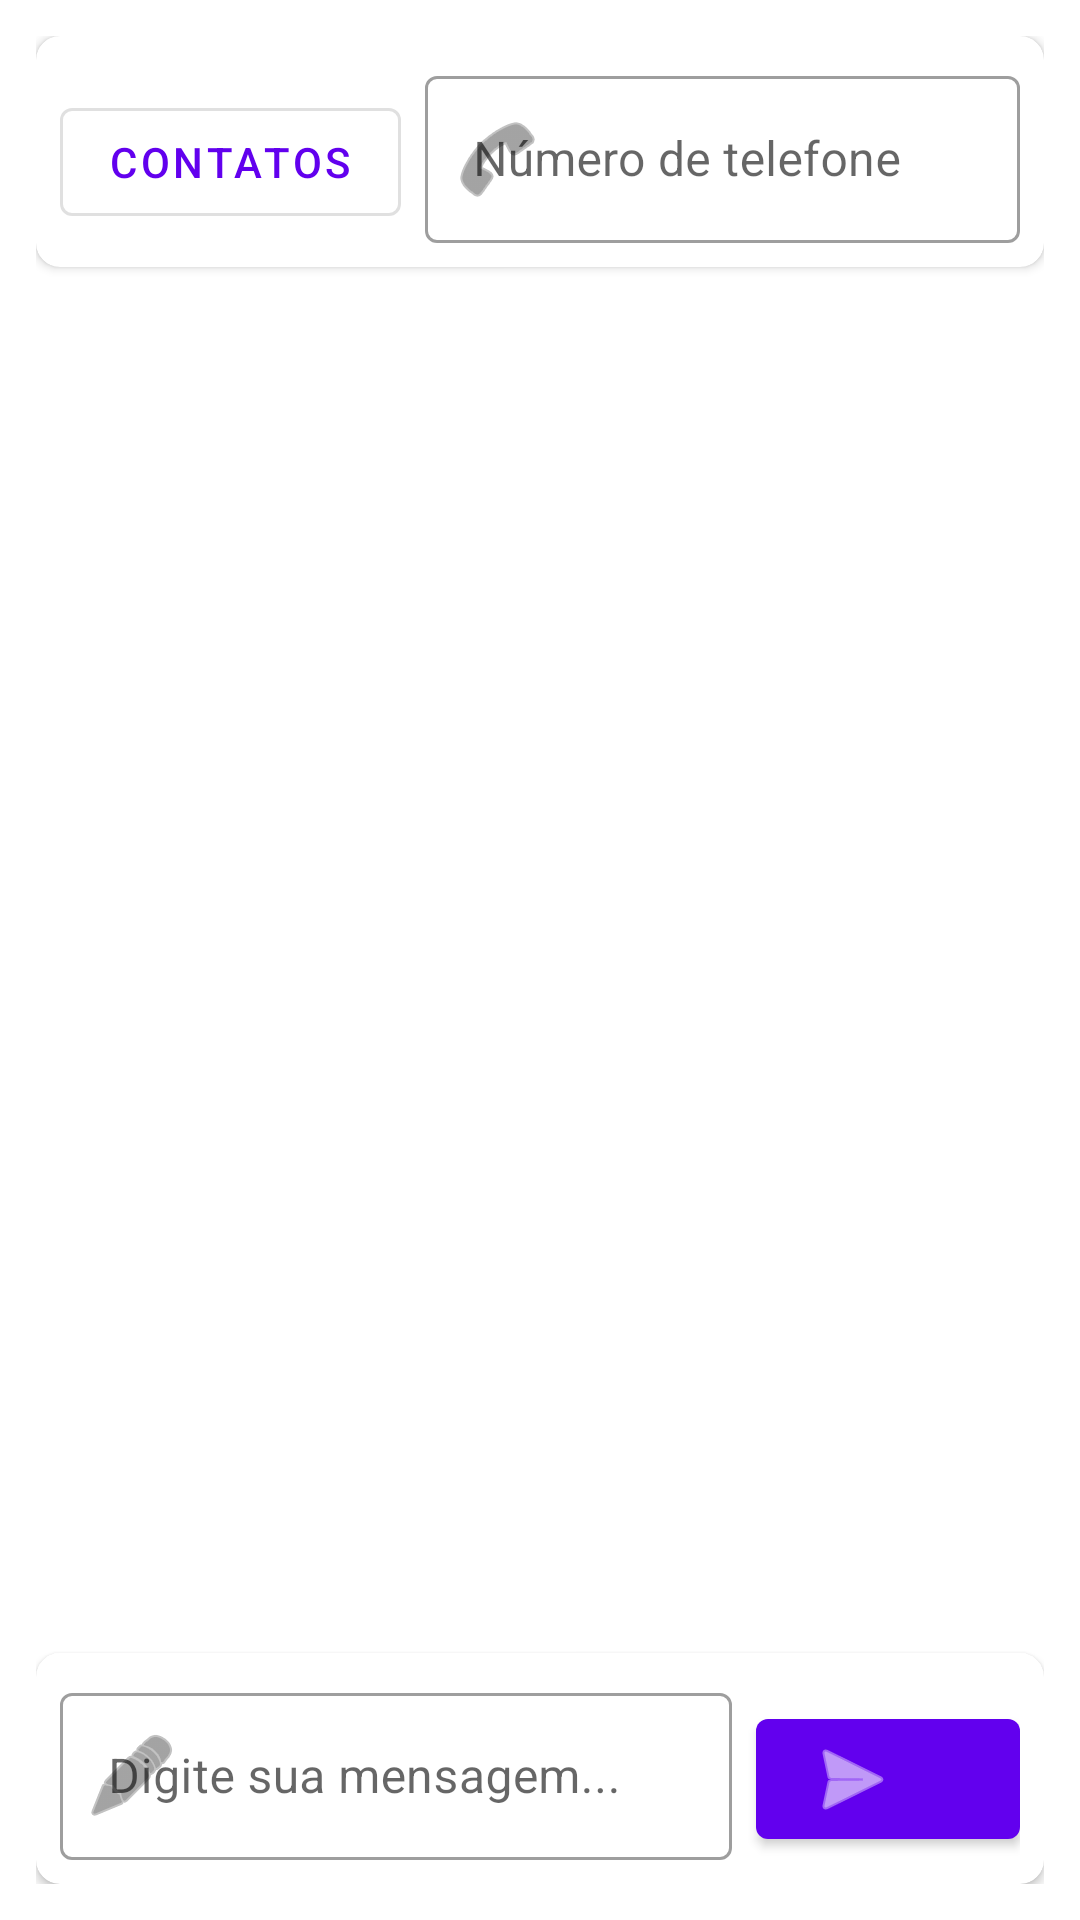

Icons on this 1080 x 1920 Android screen, each with the point to tap as [x,y]:
send: [888,1782]
